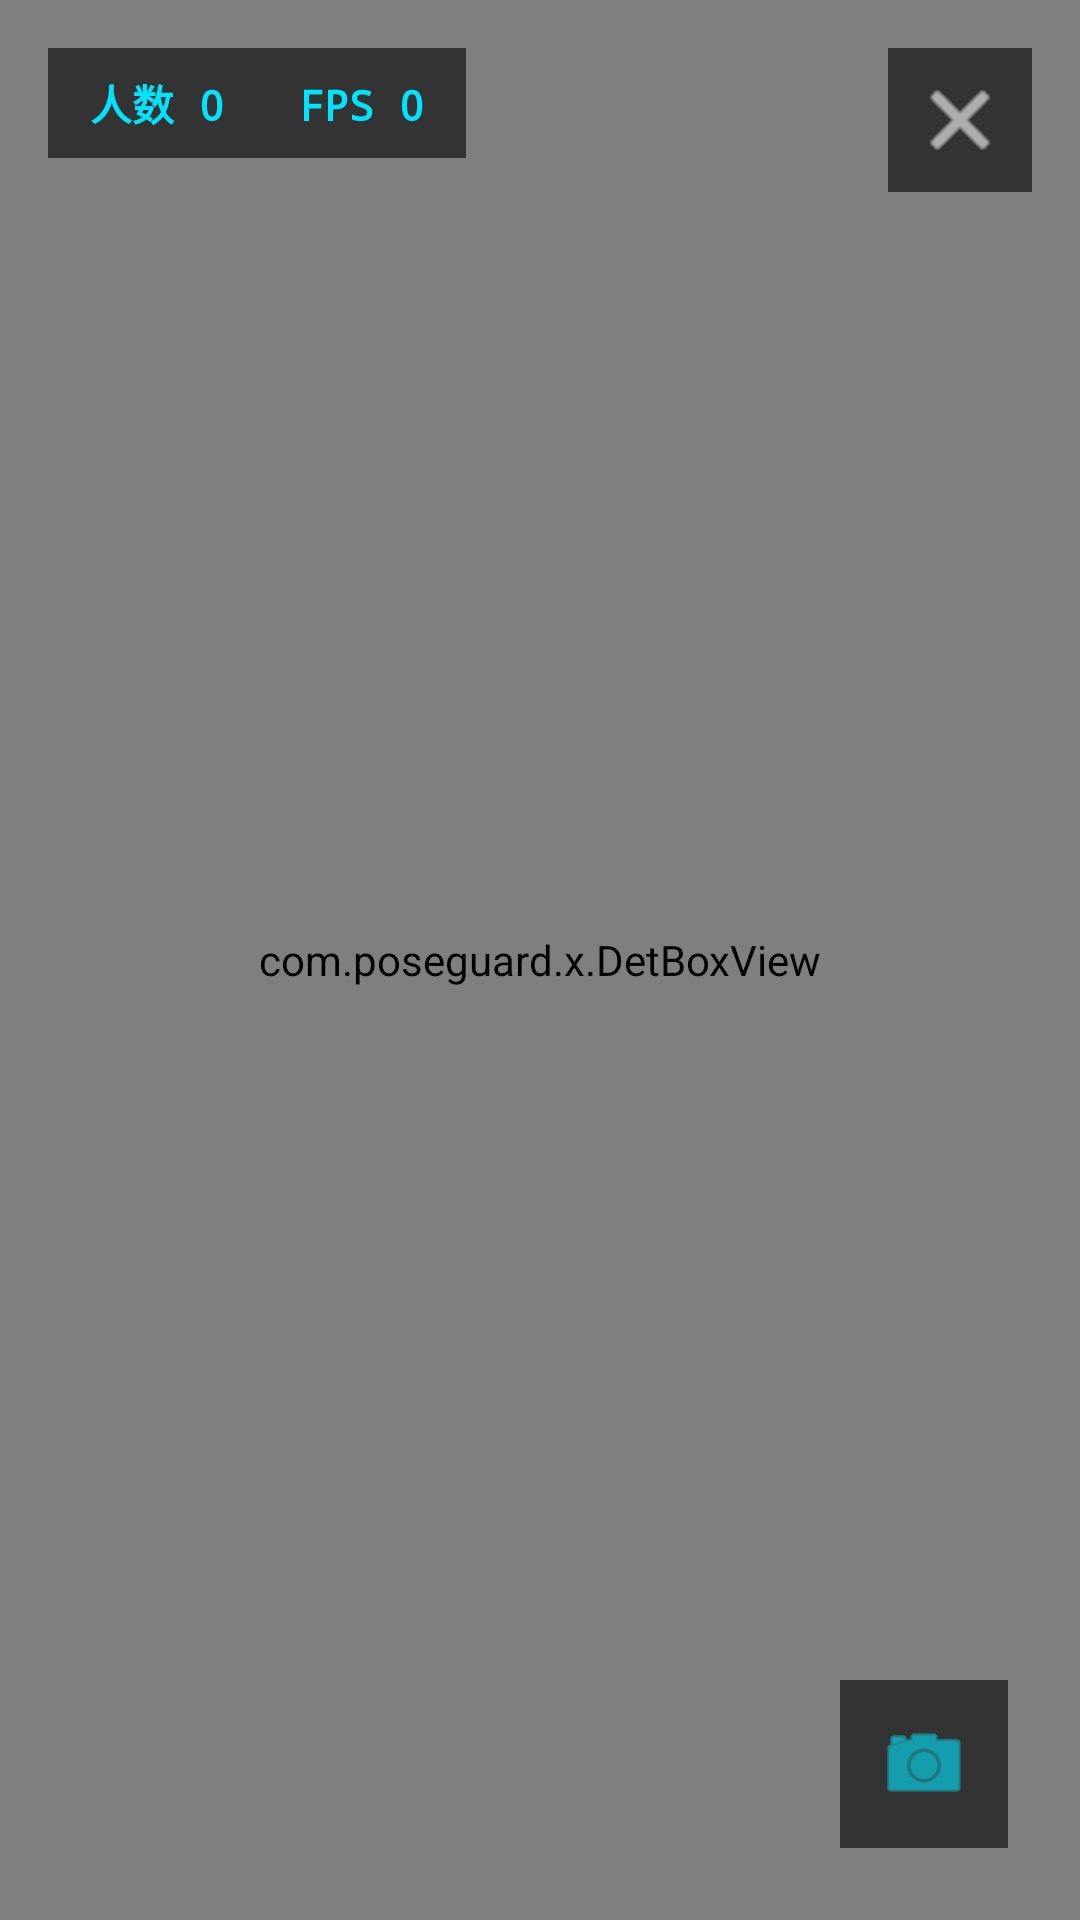

Screen size 1080px x 1920px. Icon name, then its box in pixels as BBox(x1, y1, x2, y2):
关闭: BBox(888, 48, 1032, 192)
切换镜头: BBox(840, 1680, 1008, 1848)
